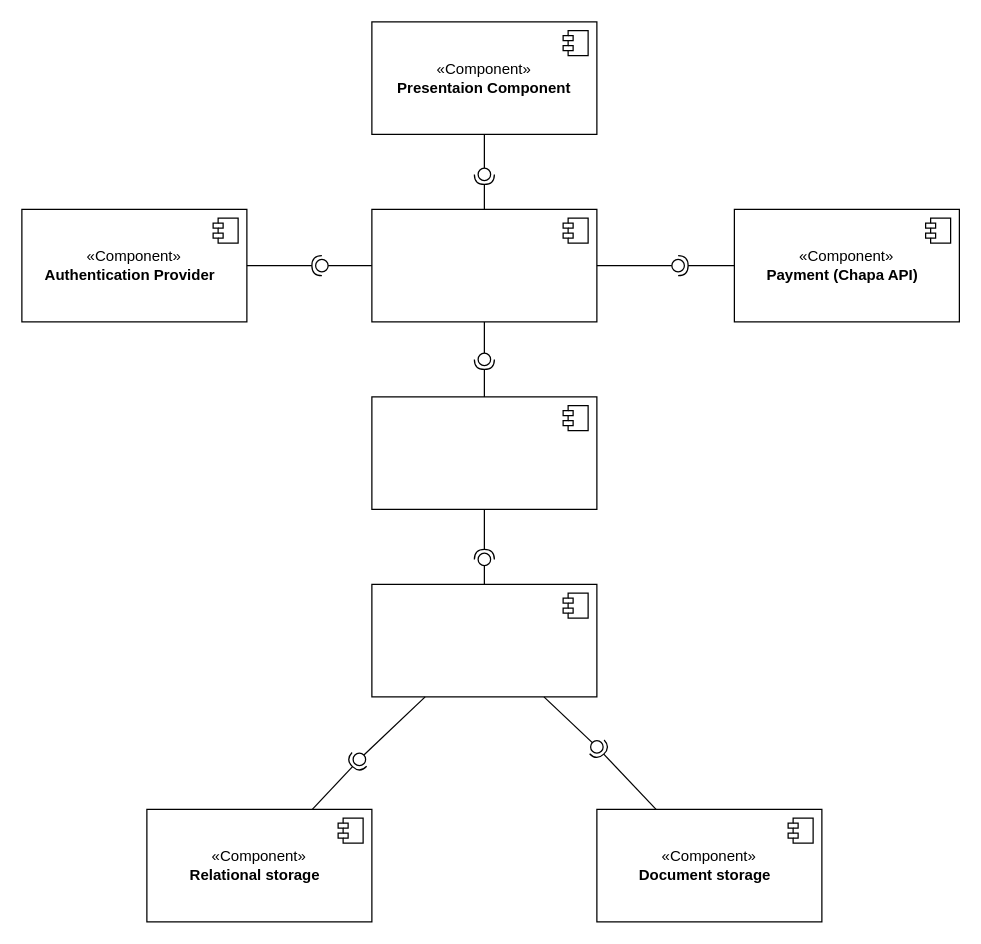
This 981x944 diagram has some shape labels left out. Each missing label, with the centre of its shape:
«Component» API Component: point (484, 265)
«Component» Core Component (Business Logic): point (484, 452)
«Component» Infrastructure: point (484, 640)
